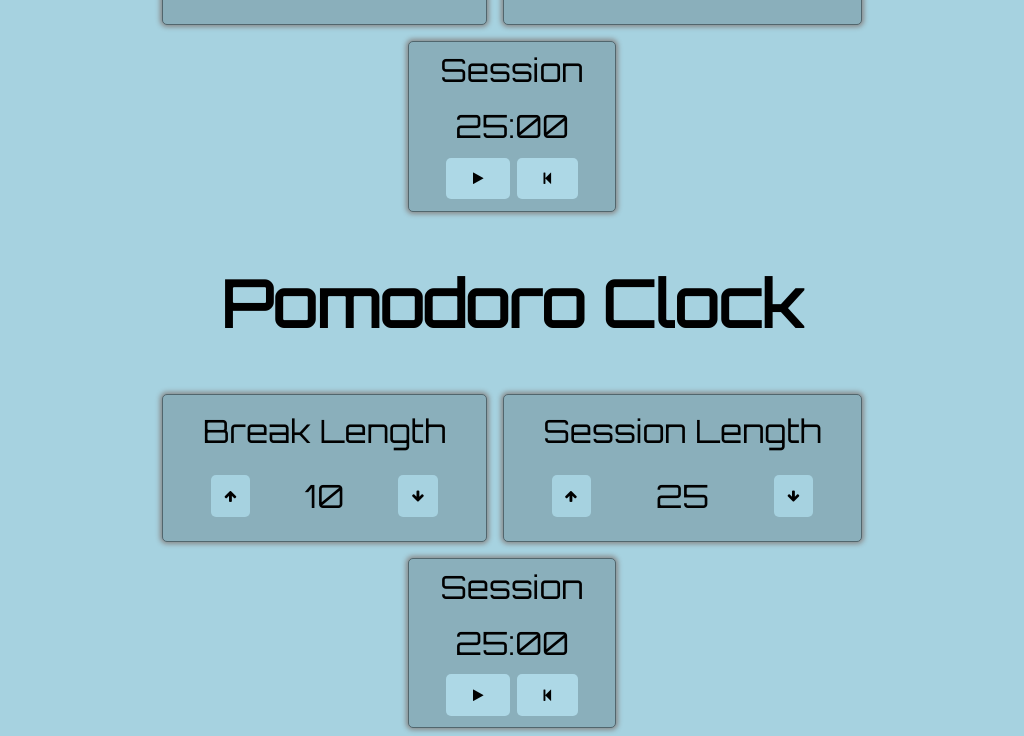
App tests › Increments breaklength when break-increment is clicked, and you can see the updated value
The width and height of the screenshot is (1024, 736).
(page scrolled)
Click the button with id "break-increment" at (230, 496), box [211,476,250,517]
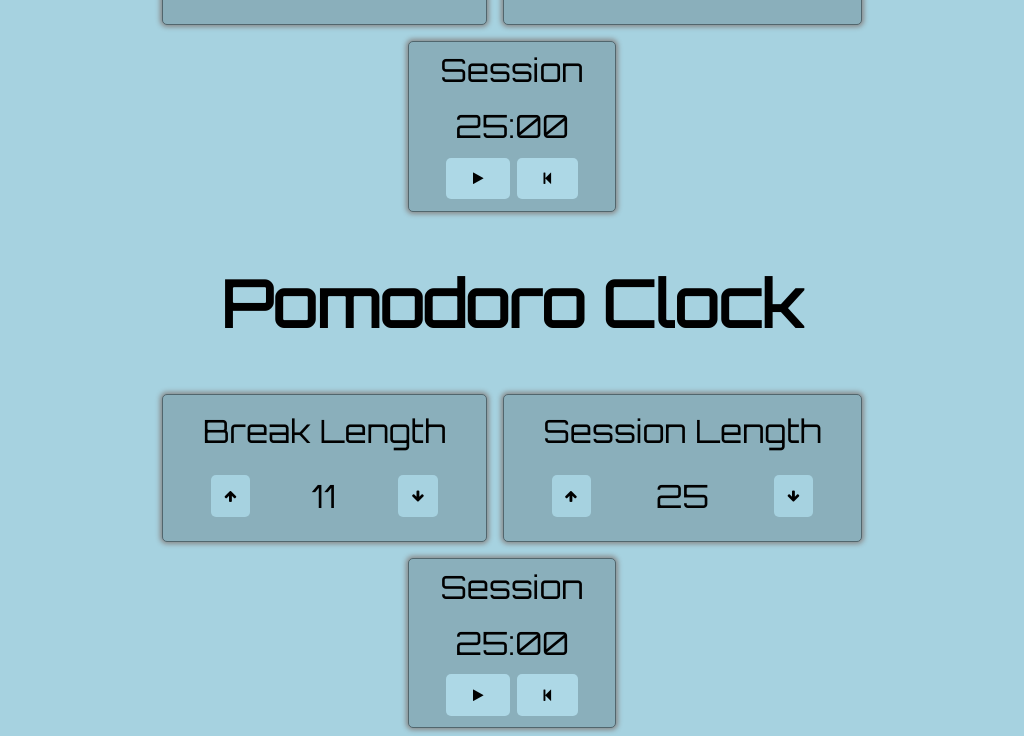
Check: the text with id "break-length" reads "11", box [312,476,337,516]
